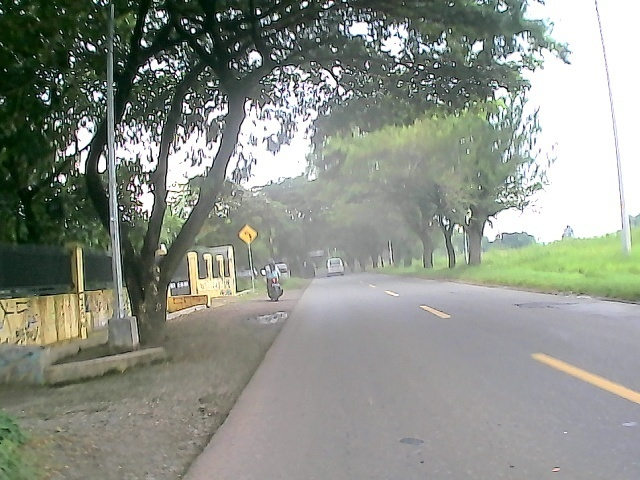Tikungan ke kiri: (234, 221, 261, 246)
